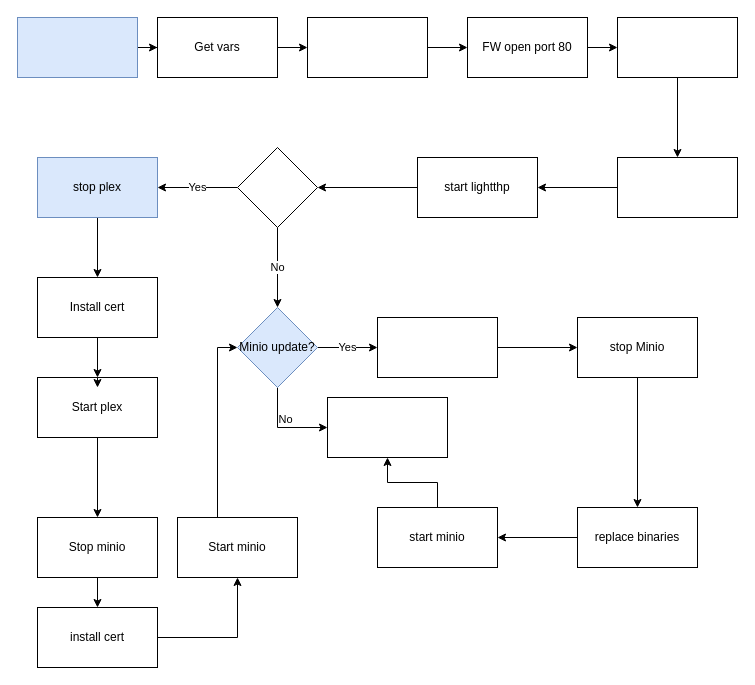
This 755x685 diagram has some shape labels left out. The centre of each missing label's shape, as x and y in pixels:
Done: [387,427]
download new minio: [437,347]
FW close firewall 80: [677,187]
Minio - Cert update: [77,47]
New cert?: [277,187]
run certbot: [677,47]
Stop lighttpd: [367,47]
